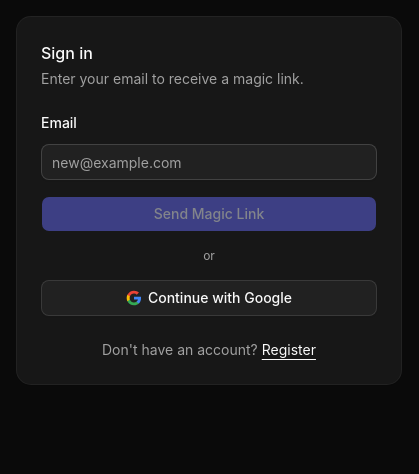
Test case: Login Page › Magic Link Submission › reveals OTP input section after successful magic link request
In the field labelled "Email": (209, 162) [41,144,377,180], type "user@example.com"
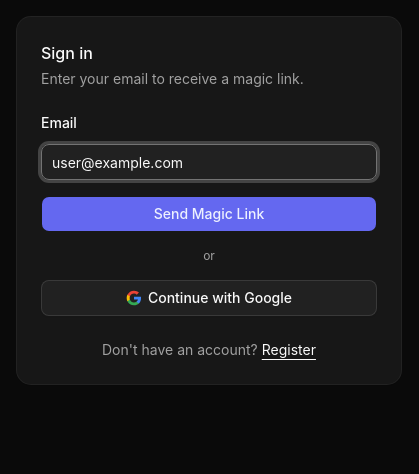
Click the button "Send Magic Link": (209, 214) [41,196,377,232]
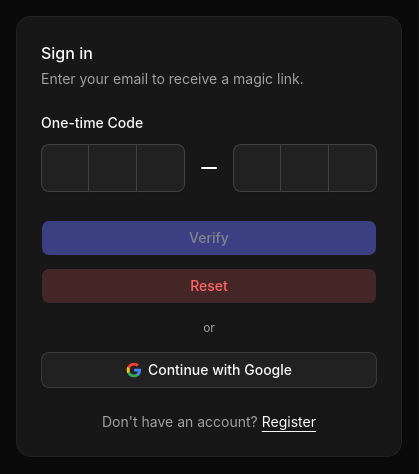
Result: the field with test id "otp-input" is shown at [41,144,377,192]
Result: the button "Verify" is shown at [41,220,377,256]
